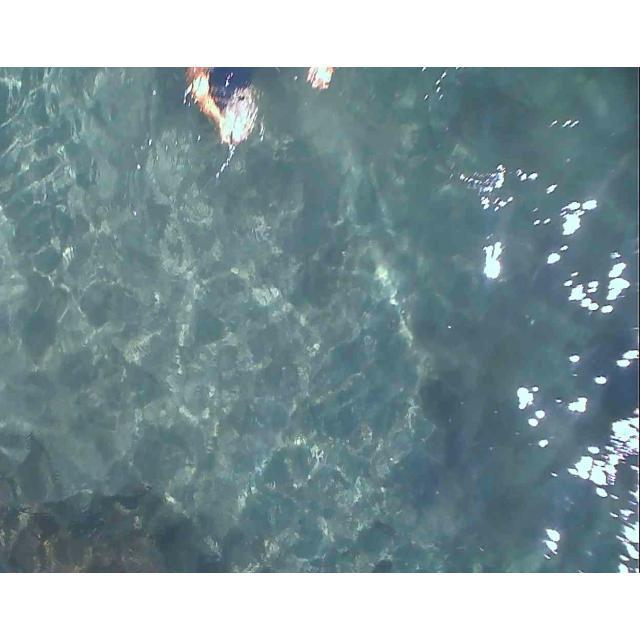human: (205, 67, 354, 142)
